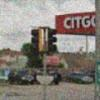traffic lights: (30, 28, 43, 52)
